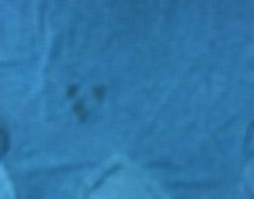oil: (66, 82, 109, 122)
